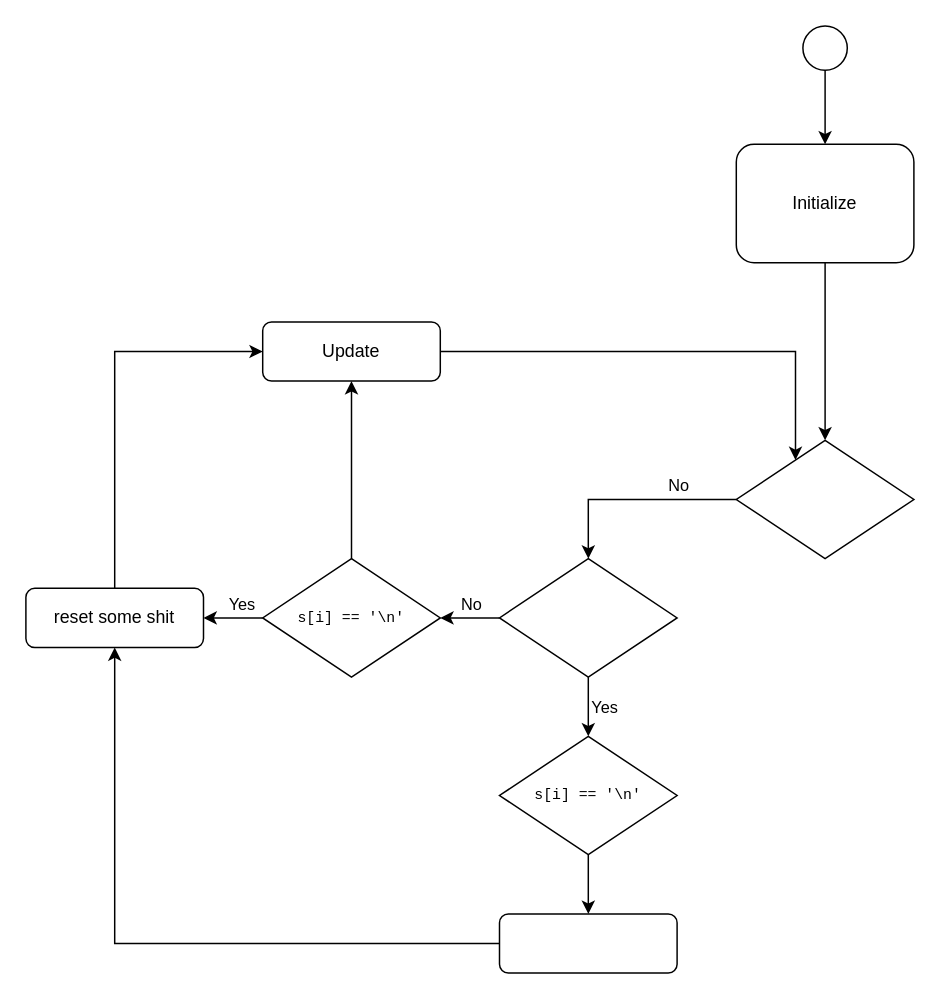
The diagram is 940 pixels wide and 999 high, and some of its shapes have lost their labels. The shapes that lost their labels are listed below. From the top down, each one's centre as x and y in pixels, then its label:
At pixel 824 499: "p[i] == s[i]".
At pixel 587 617: "matchFlag == 1 p[i] == '\0'".
At pixel 587 942: "perfMatchinfFlag = 1".
